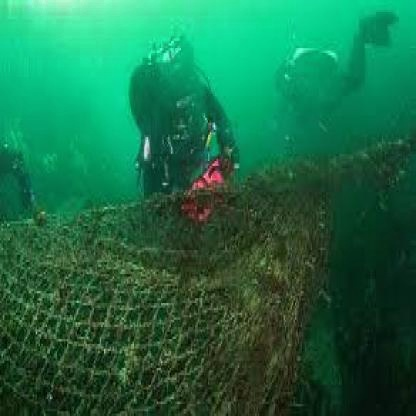net: (2, 178, 329, 409)
